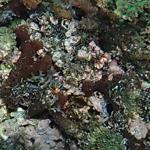dead: (1, 5, 145, 146)
